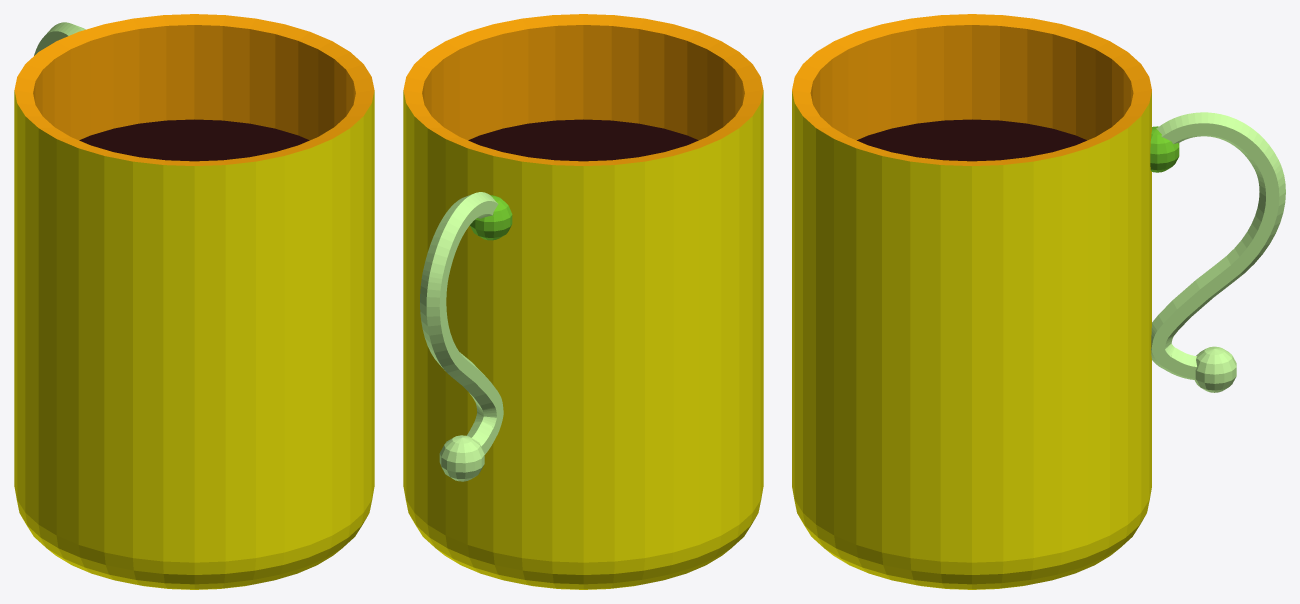
The model's file is кружка3.fbx.
3 views of the same model, side by side, from view 1: azimuth 30°, elevation 25°; view 2: azimuth 150°, elevation 25°; view 3: azimuth 270°, elevation 25° (orthographic).
Visible parts, largest first — view 1: Цилиндр_1, Цилиндр_2, Цилиндр, Sweep; view 2: Цилиндр_1, Цилиндр_2, Sweep, Цилиндр, Сфера, Сфера_1; view 3: Цилиндр_1, Цилиндр_2, Sweep, Цилиндр, Сфера, Сфера_1.
Boxes of the visible parts, x1=… form: Цилиндр_1: x1=14, y1=90, x2=374, y2=589; Цилиндр_2: x1=14, y1=14, x2=374, y2=165; Цилиндр: x1=79, y1=119, x2=309, y2=161; Sweep: x1=34, y1=22, x2=85, y2=55; Цилиндр_1: x1=403, y1=90, x2=763, y2=589; Цилиндр_2: x1=403, y1=14, x2=763, y2=165; Sweep: x1=420, y1=192, x2=503, y2=454; Цилиндр: x1=468, y1=119, x2=698, y2=161; Сфера: x1=439, y1=435, x2=484, y2=481; Сфера_1: x1=470, y1=195, x2=512, y2=240; Цилиндр_1: x1=792, y1=91, x2=1151, y2=589; Цилиндр_2: x1=792, y1=14, x2=1151, y2=165; Sweep: x1=1151, y1=112, x2=1285, y2=379; Цилиндр: x1=857, y1=119, x2=1086, y2=161; Сфера: x1=1194, y1=346, x2=1236, y2=392; Сфера_1: x1=1150, y1=126, x2=1179, y2=172.
Bounding box in the file's own units: 10.9 × 14.69 × 14.95.
